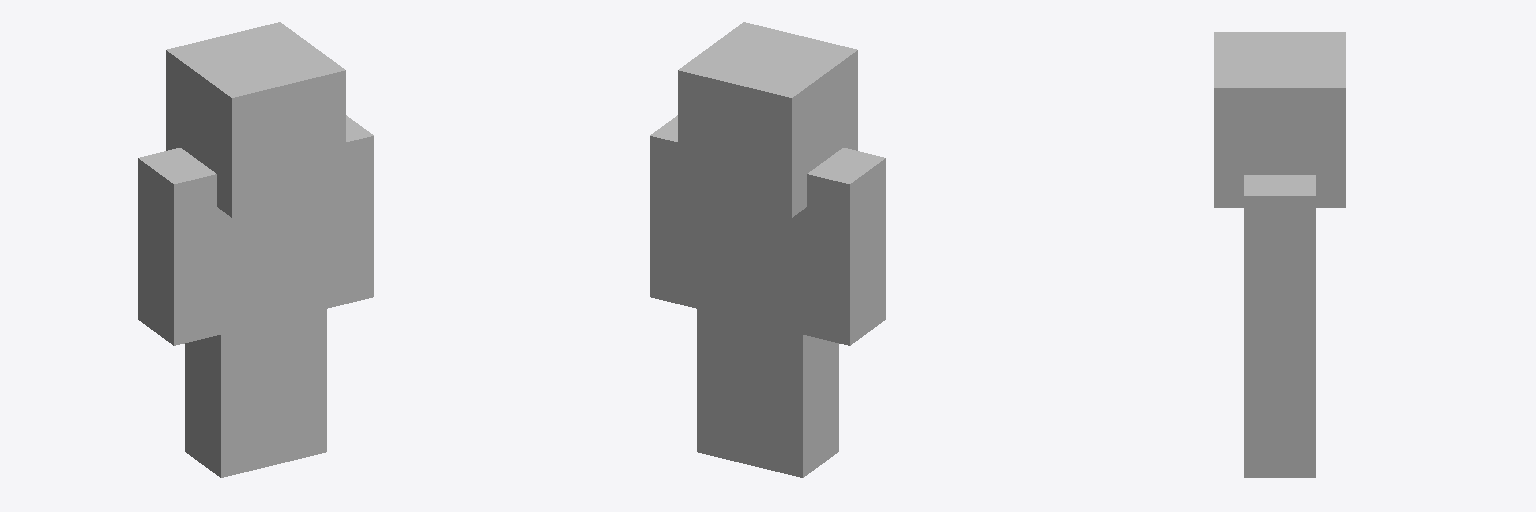
File: armorlayer1between.obj
The picture shows the model from 3 angles: view 1: azimuth 30°, elevation 25°; view 2: azimuth 150°, elevation 25°; view 3: azimuth 270°, elevation 25°; orthographic projection.
Parts seen in each view (by area): view 1: head, left_arm, left_shoe, body, right_shoe, right_arm; view 2: head, left_arm, left_shoe, body, right_shoe, right_arm; view 3: head, right_arm, right_shoe.
Part boxes in pixels (x1,y1,x2,y2): head: (166, 22, 345, 217); left_arm: (138, 148, 236, 345); left_shoe: (185, 303, 283, 477); body: (220, 194, 327, 334); right_shoe: (264, 305, 326, 466); right_arm: (311, 115, 373, 310); head: (678, 22, 857, 217); left_arm: (787, 148, 885, 345); left_shoe: (740, 307, 838, 477); body: (696, 195, 803, 333); right_shoe: (697, 296, 759, 467); right_arm: (650, 115, 712, 311); head: (1214, 32, 1345, 207); right_arm: (1244, 175, 1315, 356); right_shoe: (1244, 357, 1315, 477).
Size of the model in its own units: 1.09 by 2.05 by 0.625.